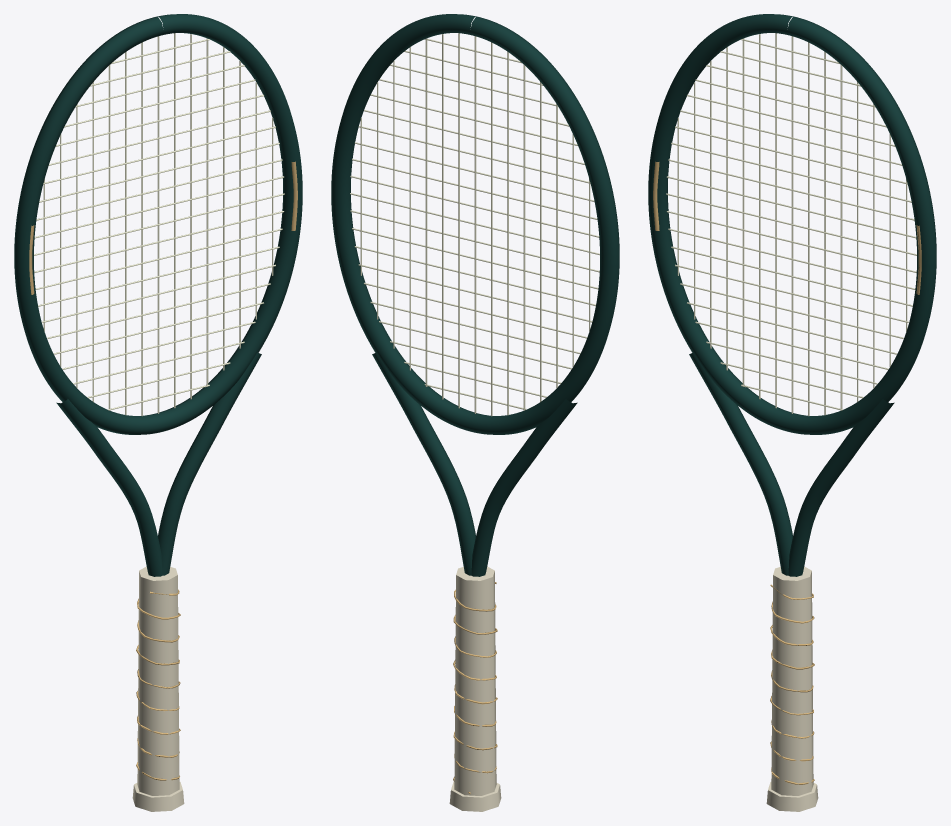
The model's file is racket.glb.
The picture shows the model from 3 angles, left to right: view 1: azimuth 30°, elevation 25°; view 2: azimuth 150°, elevation 25°; view 3: azimuth 330°, elevation 25°; orthographic projection.
Parts seen in each view (by area): view 1: racket_frame, racket_strings, racket_handle, racket_accent; view 2: racket_frame, racket_strings, racket_handle, racket_accent; view 3: racket_frame, racket_strings, racket_handle, racket_accent.
Boxes of the visible parts, x1,y1,x2,y2 form: racket_frame: [14, 14, 302, 576]; racket_strings: [34, 33, 284, 416]; racket_handle: [132, 566, 184, 811]; racket_accent: [29, 161, 297, 780]; racket_frame: [331, 14, 619, 576]; racket_strings: [350, 33, 599, 416]; racket_handle: [449, 566, 501, 811]; racket_accent: [453, 582, 497, 793]; racket_frame: [648, 14, 936, 576]; racket_strings: [666, 33, 916, 416]; racket_handle: [766, 566, 818, 811]; racket_accent: [653, 161, 921, 784].
Bounding box in the file's own units: 0.26 × 0.68 × 0.042.
